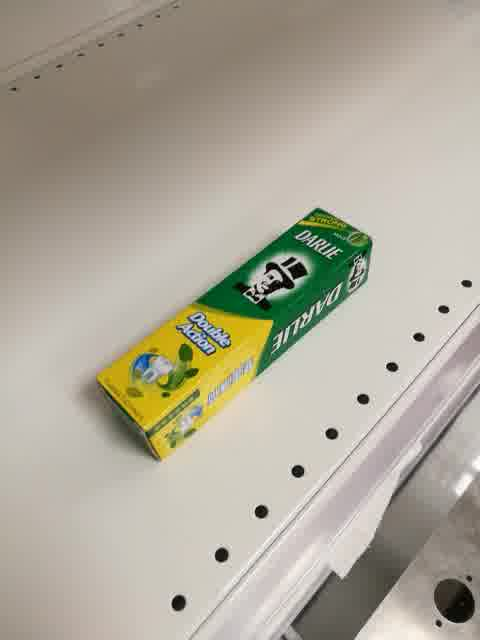toothpaste: (94, 206, 374, 465)
